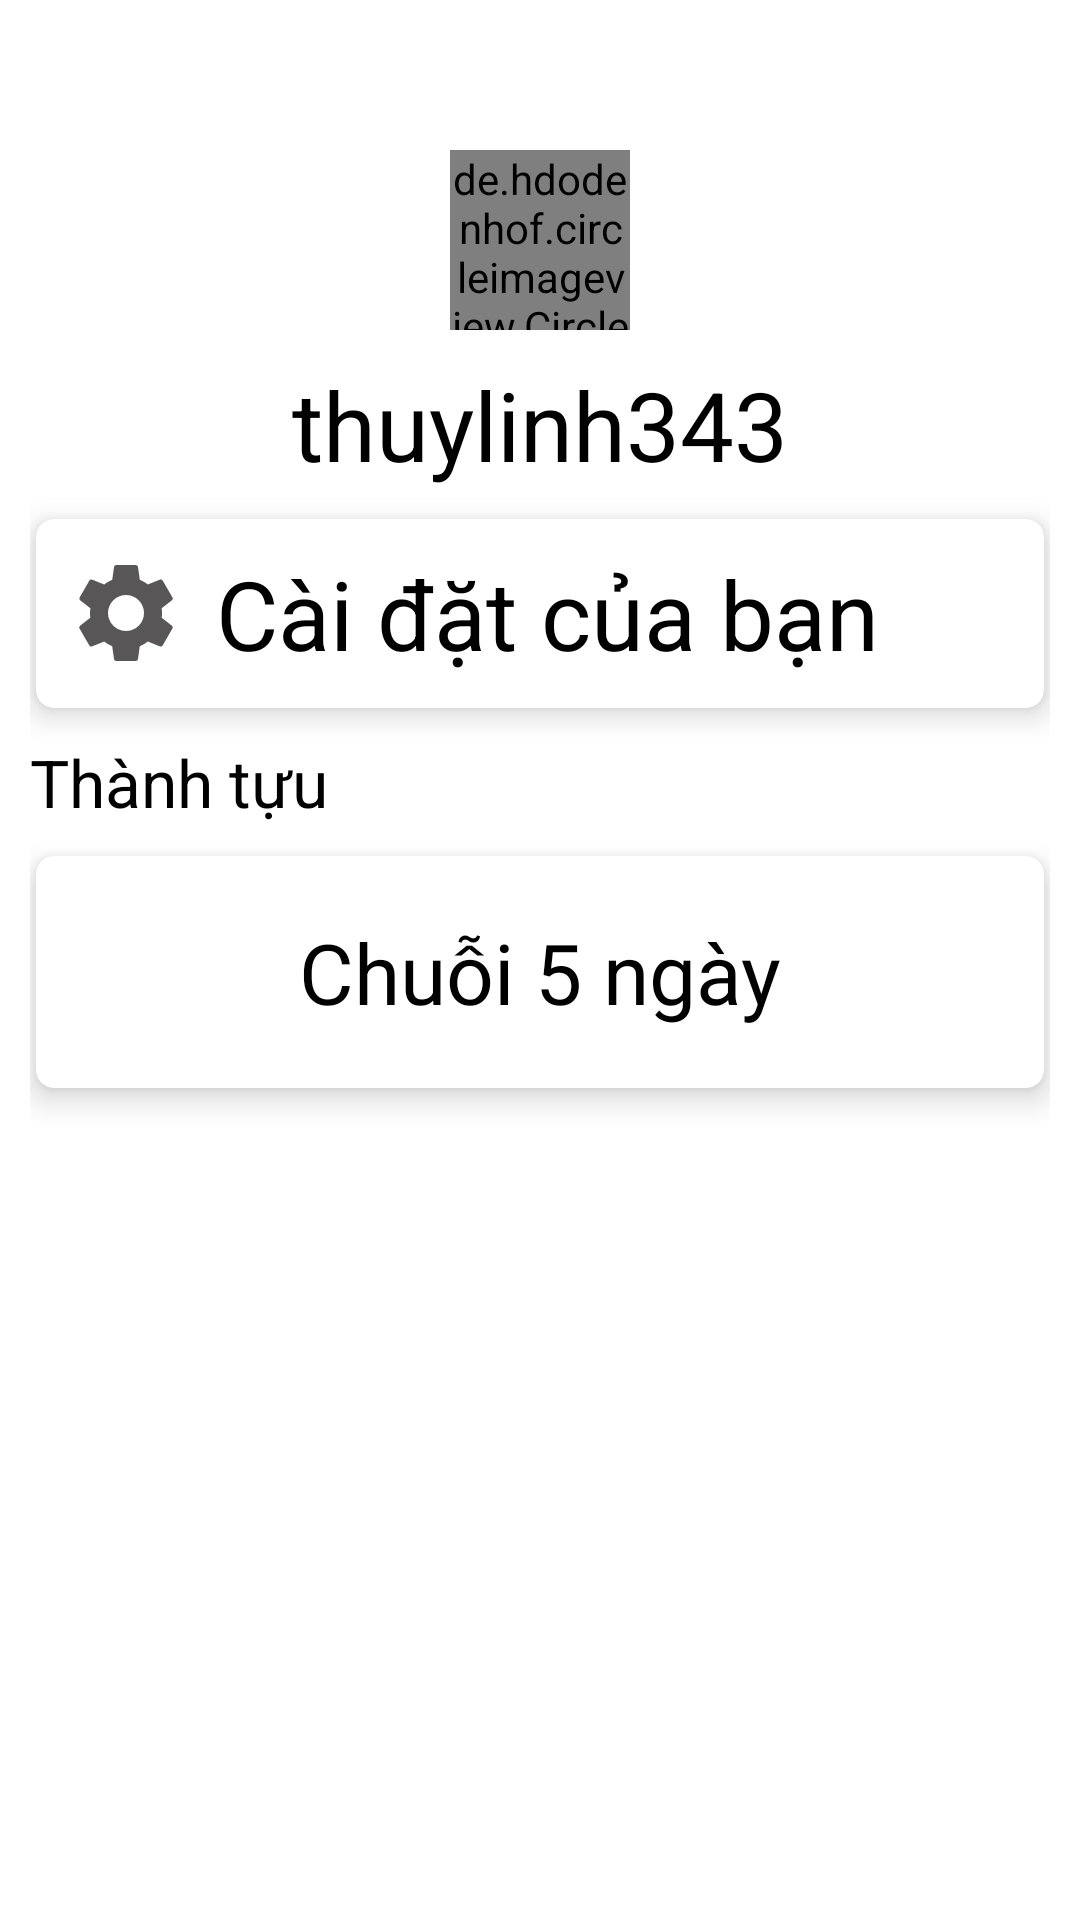

Screen size 1080px×1920px. Icon name, then its center in pixels as point (x, y):
settings: point (126, 613)
